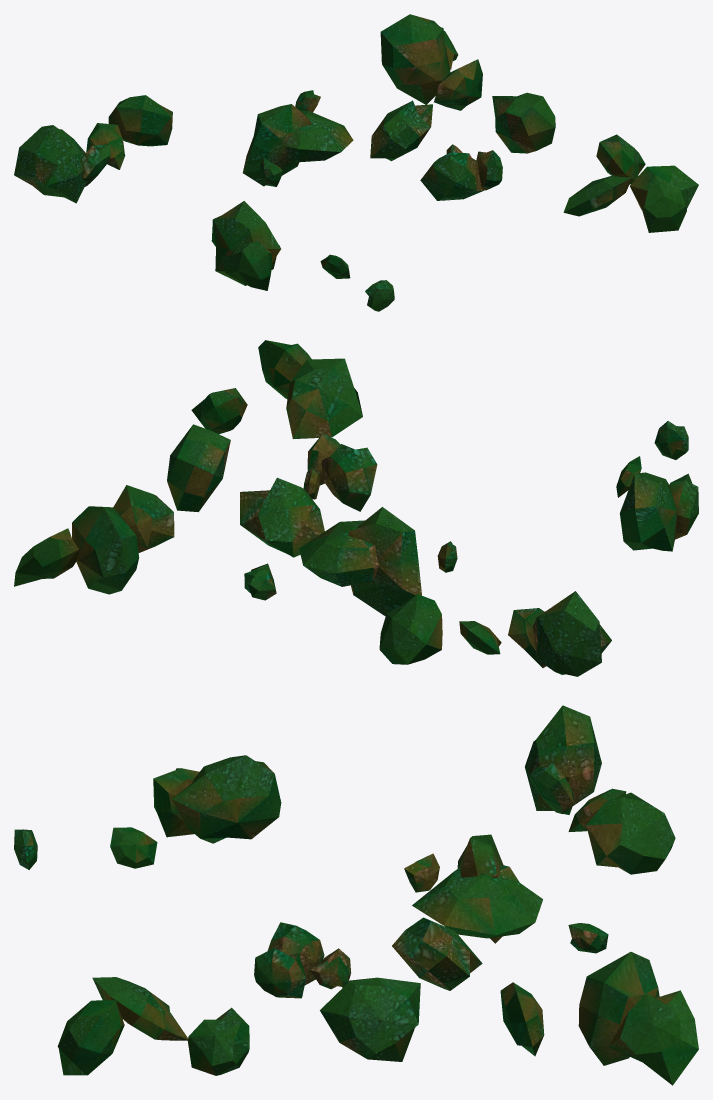
The model's file is pebbles_1.glb.
3 renders of one model, top to bottom at view 1: azimuth 30°, elevation 25°; view 2: azimuth 150°, elevation 25°; view 3: azimuth 270°, elevation 25°, orthographic. The views are drawn at different scales.
Visible parts, largest first — view 1: pebbles; view 2: pebbles; view 3: pebbles.
Part boxes in pixels (box(x1,y1,x2,y2)): pebbles: box(14, 14, 698, 311); pebbles: box(14, 340, 698, 676); pebbles: box(14, 705, 698, 1085).
Size of the model in its own units: 1.99 by 0.3433 by 1.84.
1 material, 1 textured.
